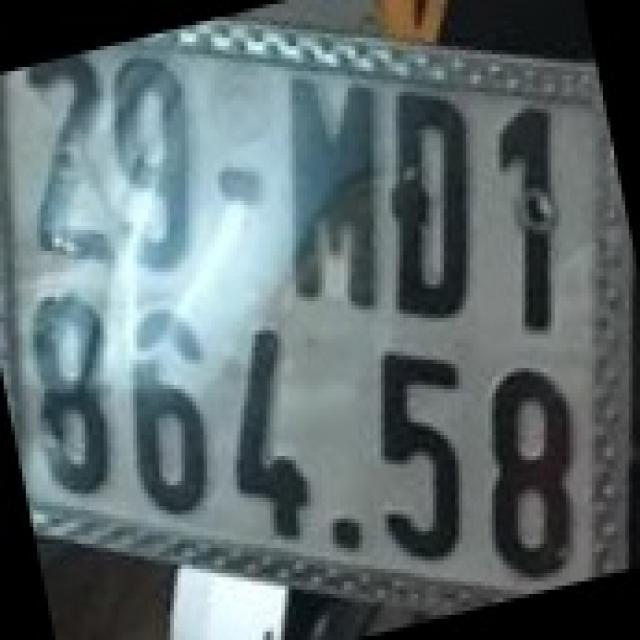1: (492, 100, 570, 334)
2: (12, 51, 116, 272)
4: (230, 326, 314, 544)
5: (374, 347, 466, 565)
6: (126, 301, 211, 515)
8: (484, 359, 580, 582), (30, 293, 114, 498)
9: (111, 54, 196, 272)
D: (392, 88, 474, 318)
M: (287, 65, 383, 316)
